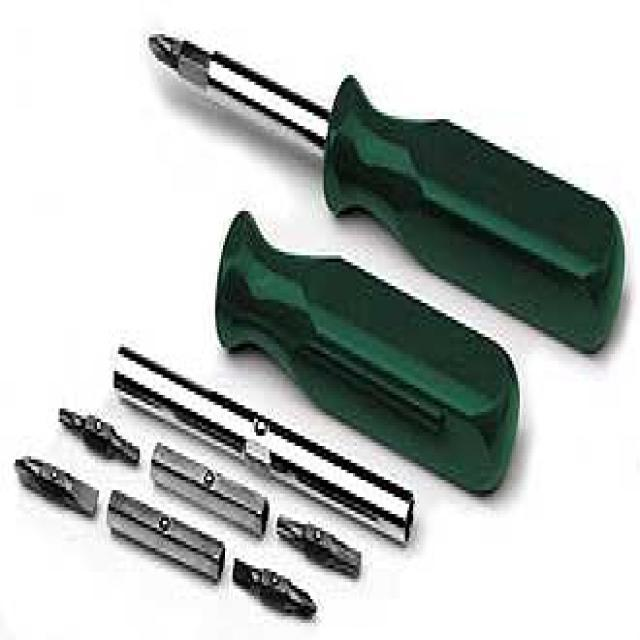screwdriver: (135, 12, 639, 371)
